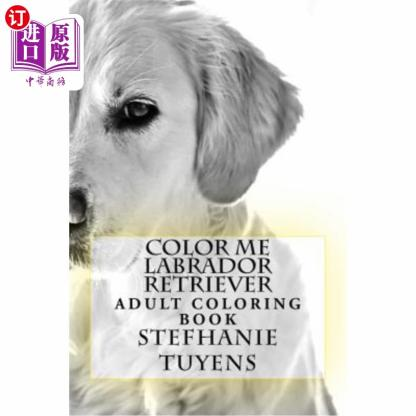Labarador Retriever: (69, 0, 313, 412)
